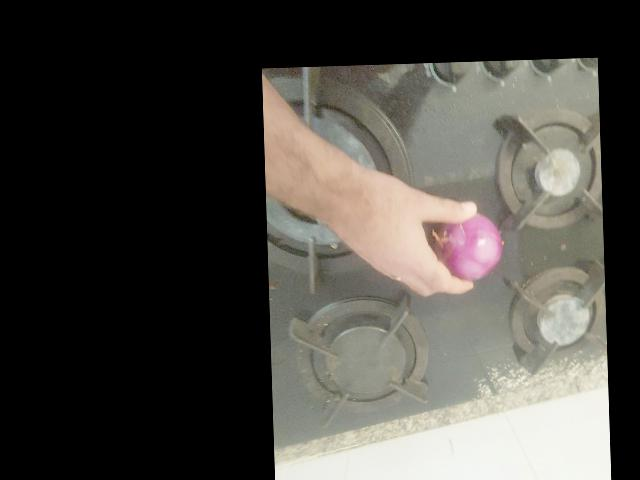onion: (504, 341, 568, 405)
